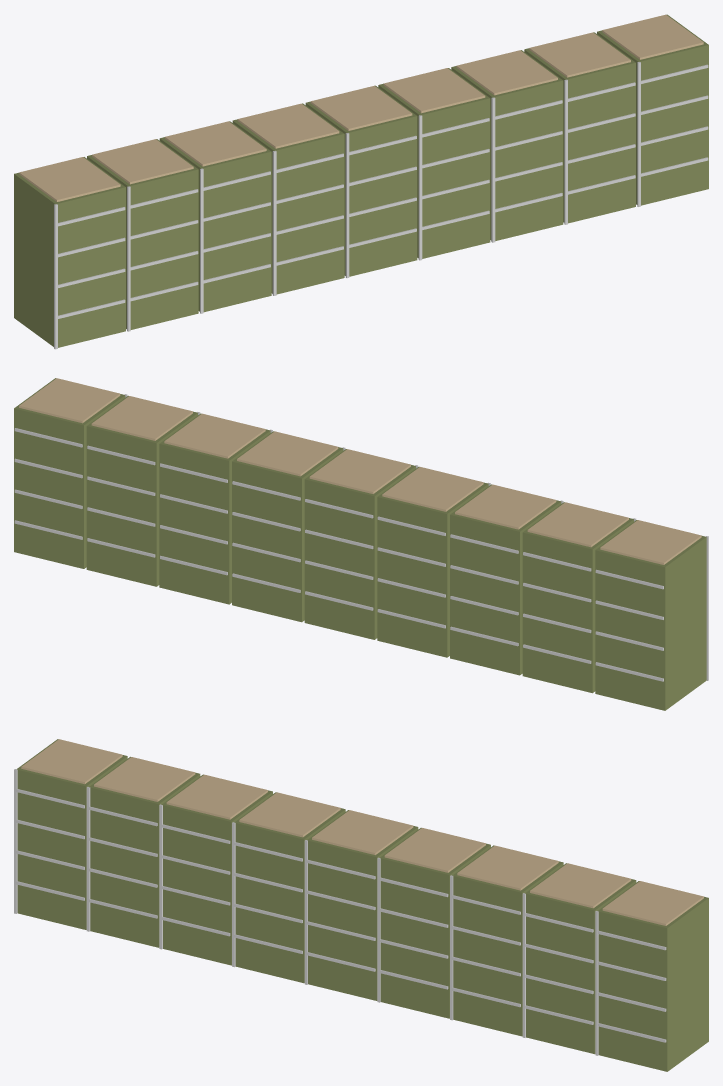
File: SM_MuroHesco_v0_MallaLimpia_e0_Sano_LOD0.fbx
The picture shows the model from 3 angles, top to bottom: view 1: azimuth 30°, elevation 25°; view 2: azimuth 150°, elevation 25°; view 3: azimuth 330°, elevation 25°; orthographic projection.
Parts seen in each view (by area): view 1: SM_bloques.muro_hesco_estados_v0_LOD0; view 2: SM_bloques.muro_hesco_estados_v0_LOD0; view 3: SM_bloques.muro_hesco_estados_v0_LOD0.
Part boxes in pixels (bbox=[...]): SM_bloques.muro_hesco_estados_v0_LOD0: bbox=[14, 14, 708, 349]; SM_bloques.muro_hesco_estados_v0_LOD0: bbox=[14, 378, 708, 710]; SM_bloques.muro_hesco_estados_v0_LOD0: bbox=[14, 739, 708, 1071].
Bounding box in the file's own units: 9.98 × 2.13 × 1.14.
